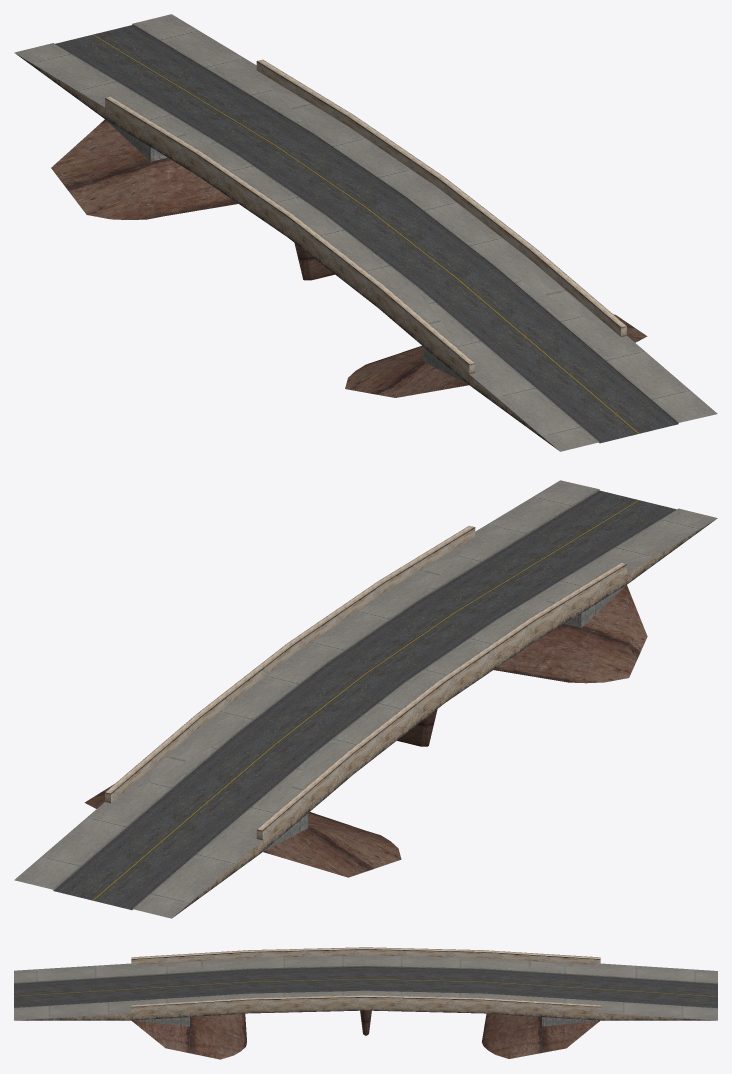
File: vegaseroad049.obj
The picture shows the model from 3 angles, top to bottom: view 1: azimuth 30°, elevation 25°; view 2: azimuth 150°, elevation 25°; view 3: azimuth 270°, elevation 25°; orthographic projection. The views are drawn at different scales.
Visible parts, largest first — view 1: VegasEroad049; view 2: VegasEroad049; view 3: VegasEroad049.
Part boxes in pixels (x1,y1,x2,y2): VegasEroad049: (14, 14, 717, 451); VegasEroad049: (14, 480, 717, 918); VegasEroad049: (14, 947, 717, 1059).
Bounding box in the file's own units: 37.32 × 8.39 × 120.
5 materials, 5 textured.
